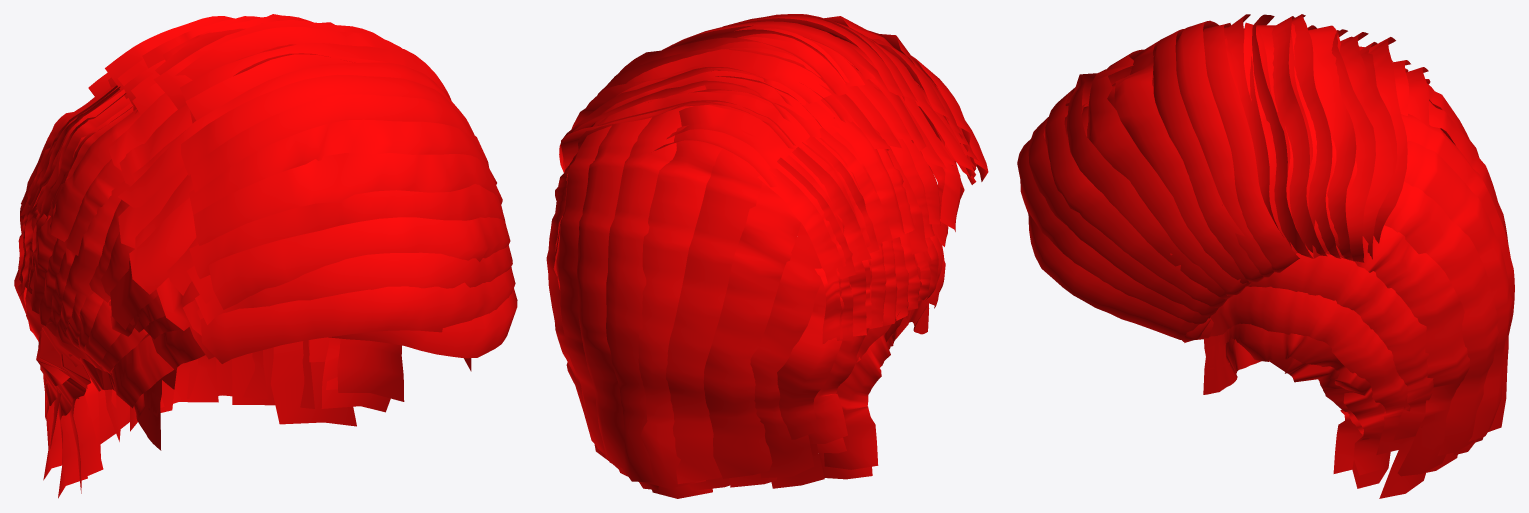
File: elvs_grump_hair_M.glb
The picture shows the model from 3 angles, left to right: view 1: azimuth 30°, elevation 25°; view 2: azimuth 150°, elevation 25°; view 3: azimuth 270°, elevation 25°; orthographic projection. The views are drawn at different scales.
Bounding box in the file's own units: 0.1954 × 0.2204 × 0.2424.
1 material, 1 textured.
